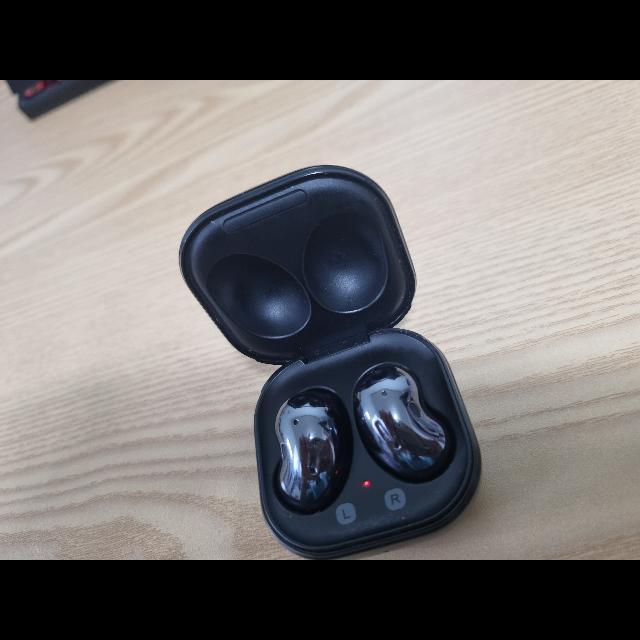buds_live: (175, 164, 485, 560)
